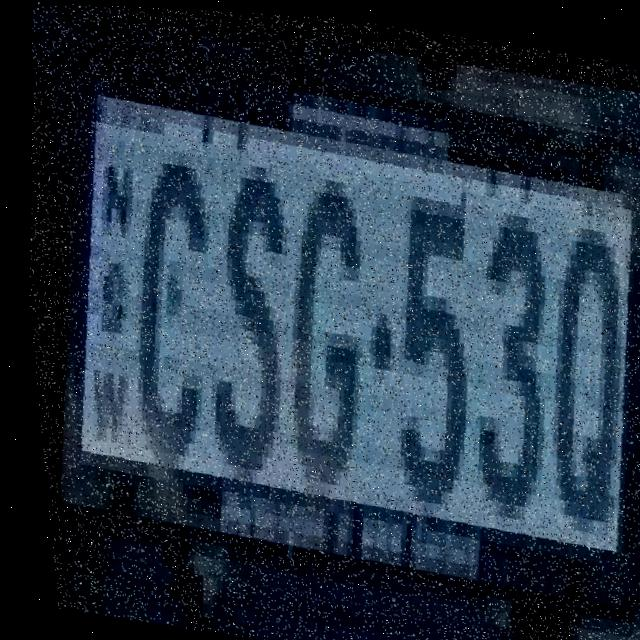LicensePlate: (9, 31, 640, 640)
